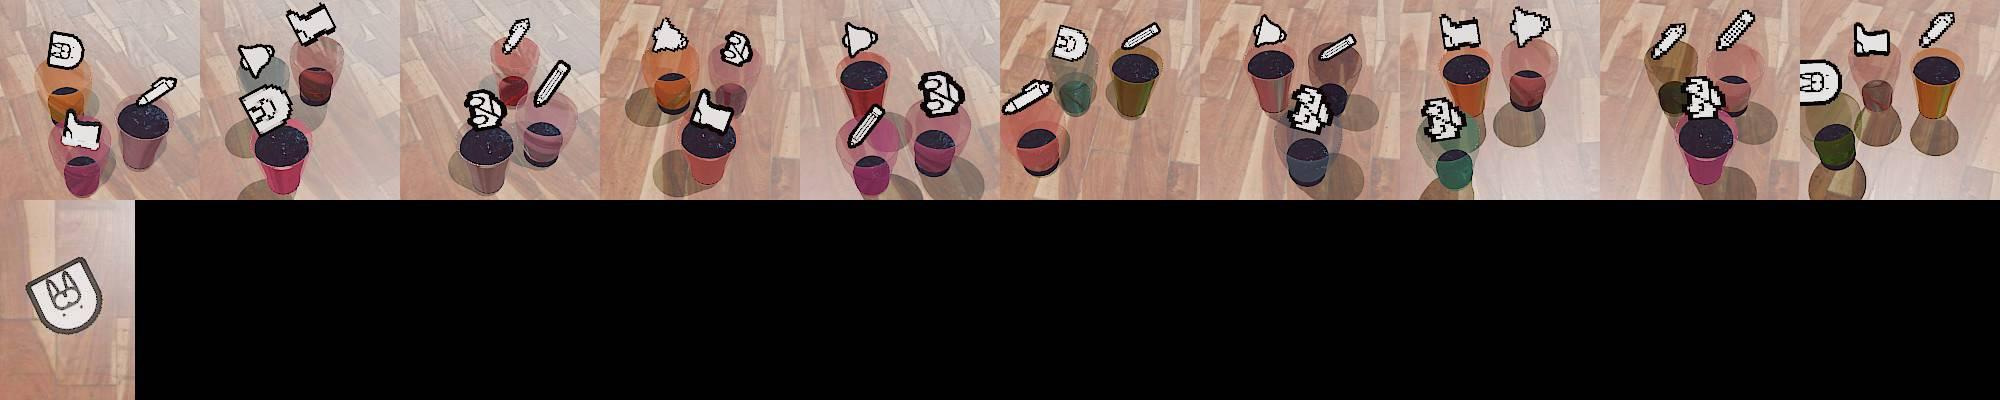icon: (23, 255, 105, 336), (239, 83, 294, 135), (1286, 84, 1333, 135), (284, 2, 336, 48), (687, 88, 736, 134), (919, 70, 965, 118), (1419, 95, 1465, 142), (1001, 78, 1054, 117), (1797, 59, 1842, 104), (533, 58, 572, 109), (1682, 74, 1726, 118), (60, 108, 103, 152), (1509, 6, 1552, 49), (464, 87, 508, 129), (1715, 9, 1756, 53), (847, 104, 885, 149), (45, 31, 84, 72), (1049, 23, 1090, 62), (1439, 14, 1481, 52), (1649, 22, 1687, 61), (649, 17, 689, 54), (137, 74, 179, 108), (1917, 11, 1954, 49), (1853, 21, 1891, 57), (237, 43, 275, 79), (842, 21, 878, 59), (719, 29, 754, 67), (1120, 21, 1161, 53), (1318, 32, 1358, 63), (501, 16, 532, 55), (1252, 14, 1287, 48)
